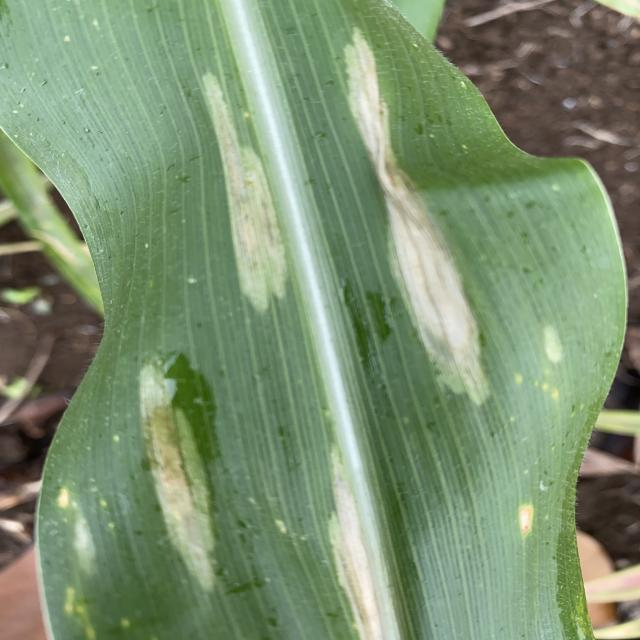Corn_Leaf_Blight: (70, 0, 554, 640)
